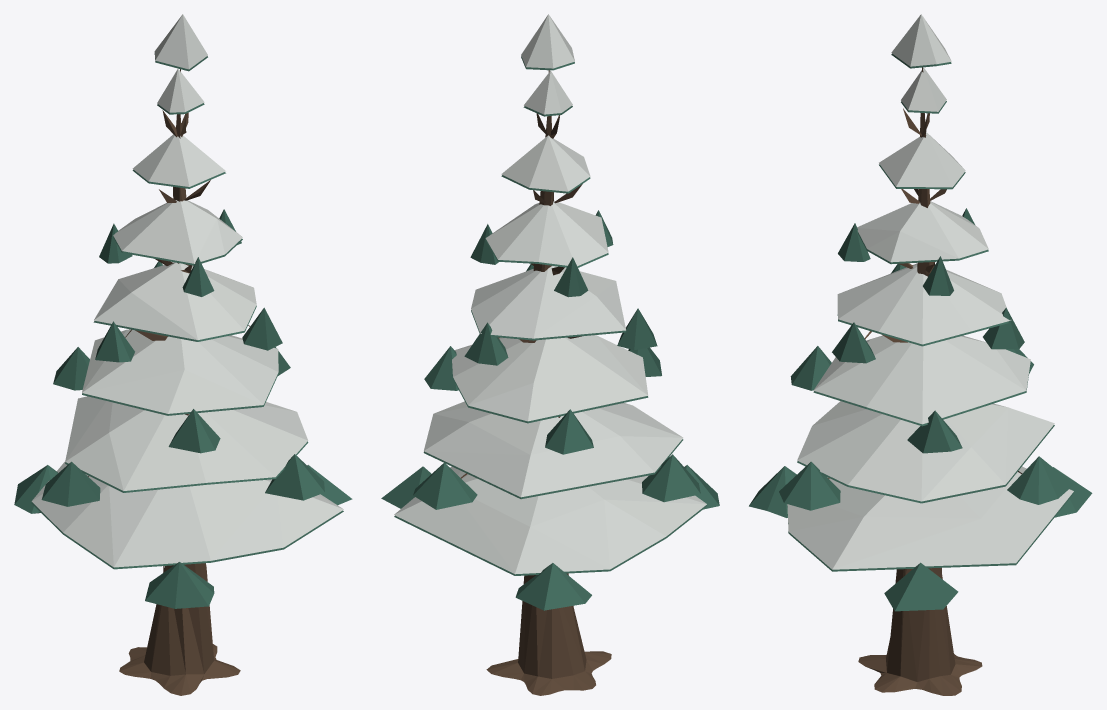
File: spruce_winter.glb
3 renders of one model, left to right at view 1: azimuth 30°, elevation 25°; view 2: azimuth 150°, elevation 25°; view 3: azimuth 270°, elevation 25°, orthographic.
Parts seen in each view (by area): view 1: snow, leaves, branches; view 2: snow, leaves, branches; view 3: snow, leaves, branches.
Part boxes in pixels (left/top/right/bottom): snow: left=31, top=14, right=343, bottom=567; leaves: left=14, top=53, right=352, bottom=608; branches: left=88, top=69, right=249, bottom=695; snow: left=394, top=14, right=706, bottom=574; leaves: left=381, top=56, right=719, bottom=610; branches: left=461, top=70, right=611, bottom=695; snow: left=787, top=14, right=1073, bottom=569; leaves: left=749, top=53, right=1092, bottom=611; branches: left=828, top=67, right=1022, bottom=695.
Size of the model in its own units: 2.88 by 5.92 by 2.8.
